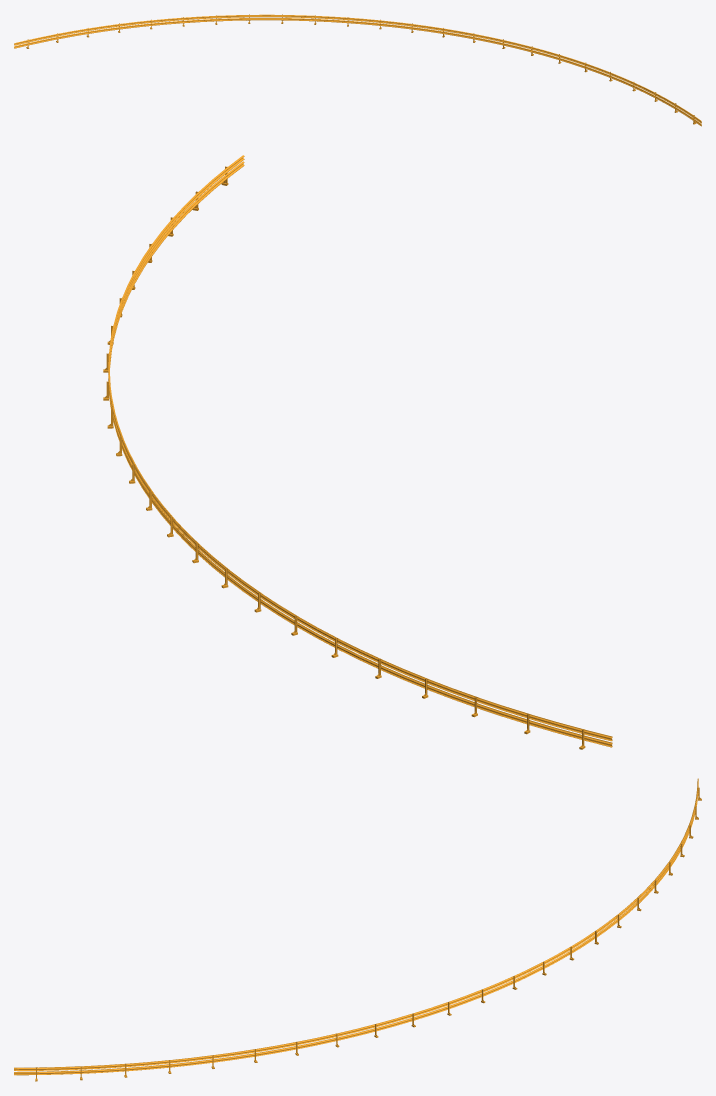
File: SM_Fence_Road_WBeam_Double_Metal_60m_Corner_Inner.fbx
3 views of the same model, one above another, from view 1: azimuth 30°, elevation 25°; view 2: azimuth 150°, elevation 25°; view 3: azimuth 270°, elevation 25° (orthographic). The views are drawn at different scales.
Visible parts, largest first — view 1: SM_Fence_Road_WBeam_Double_Metal_60m_Corner_Inner; view 2: SM_Fence_Road_WBeam_Double_Metal_60m_Corner_Inner; view 3: SM_Fence_Road_WBeam_Double_Metal_60m_Corner_Inner.
Boxes of the visible parts, x1,y1,x2,y2 form: SM_Fence_Road_WBeam_Double_Metal_60m_Corner_Inner: (14, 14, 701, 126); SM_Fence_Road_WBeam_Double_Metal_60m_Corner_Inner: (103, 155, 612, 749); SM_Fence_Road_WBeam_Double_Metal_60m_Corner_Inner: (14, 778, 701, 1081).
Bounding box in the file's own units: 59.93 × 1.2 × 59.93.
